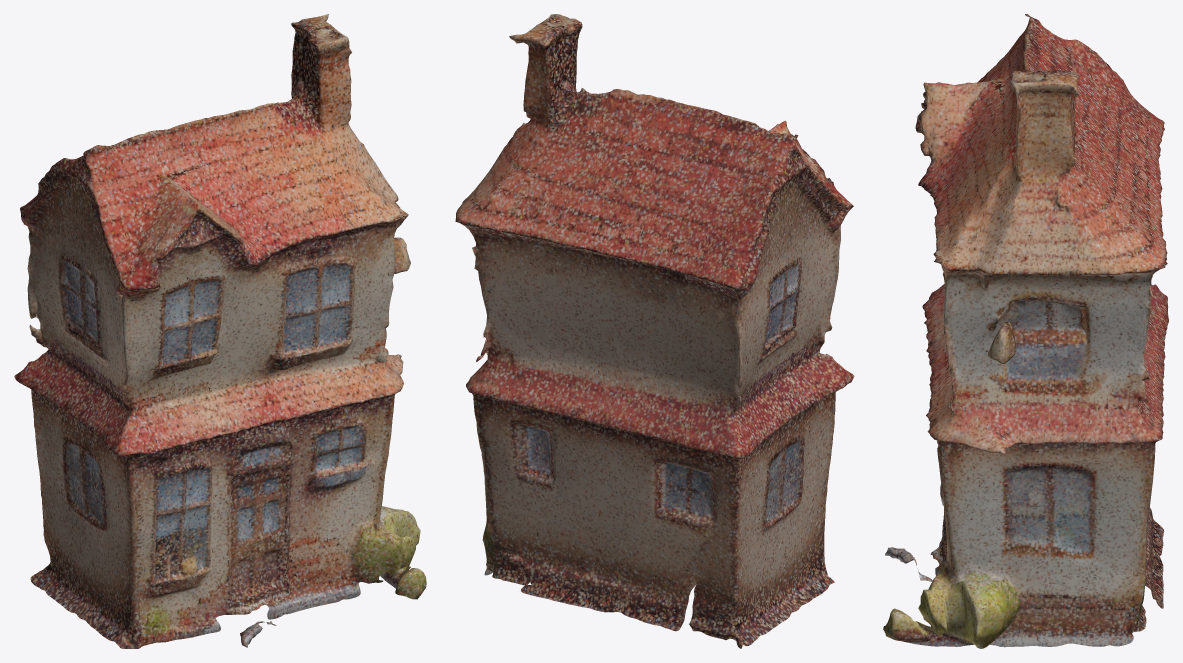
Rendered from cartoon_house-16-42-30.fbx.
3 views of the same model, side by side, from view 1: azimuth 30°, elevation 25°; view 2: azimuth 150°, elevation 25°; view 3: azimuth 270°, elevation 25° (orthographic). The views are drawn at different scales.
Visible parts, largest first — view 1: lowpoly; view 2: lowpoly; view 3: lowpoly.
Part boxes in pixels (box(x1,y1,x2,y2)): lowpoly: box(14, 14, 426, 648); lowpoly: box(455, 14, 854, 648); lowpoly: box(883, 14, 1168, 648).
Bounding box in the file's own units: 124 × 194 × 90.11.
1 material, 1 textured.
